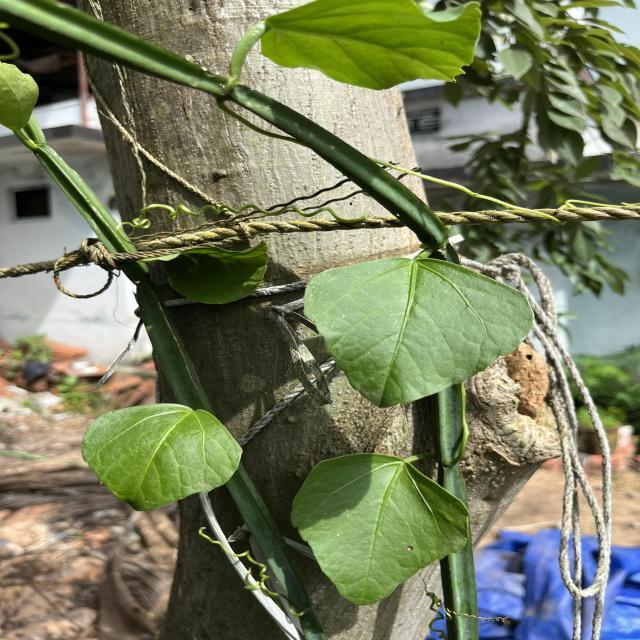Cissus quadrangularis: (301, 256, 537, 410), (287, 451, 473, 610), (80, 401, 247, 514)
